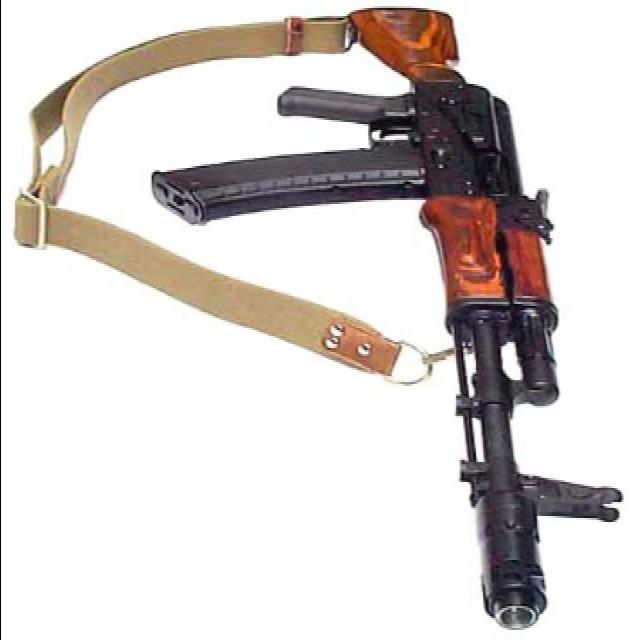rifle: (151, 7, 631, 631)
